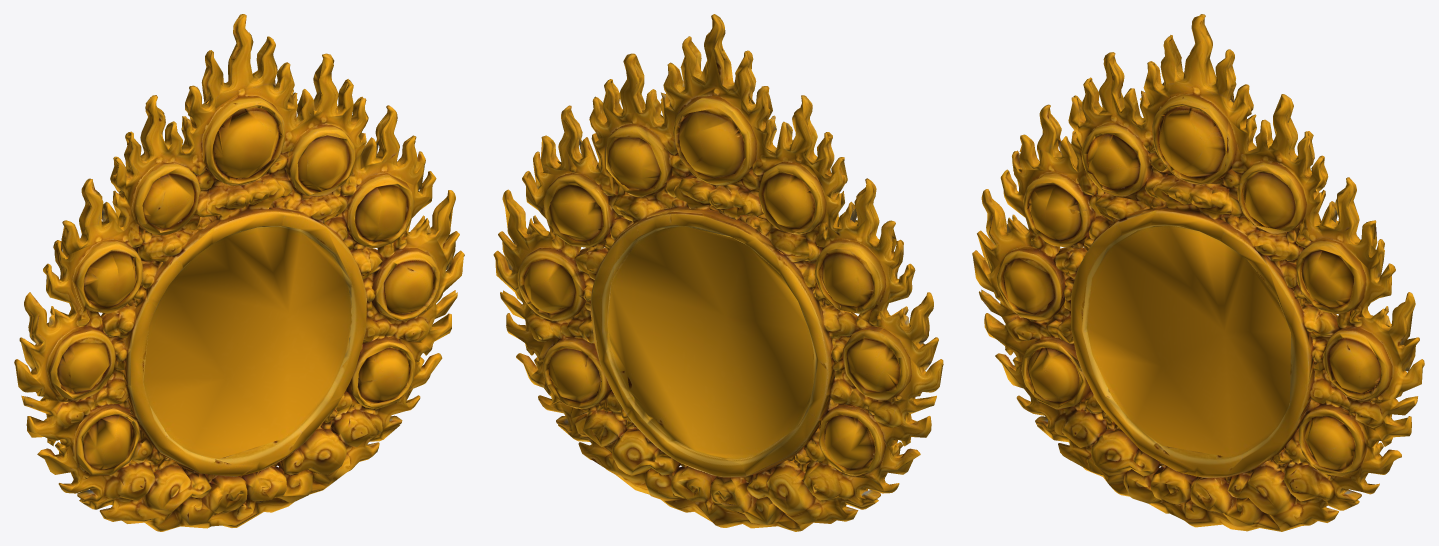
The model's file is ksitigarbha-halo.glb.
The picture shows the model from 3 angles, left to right: view 1: azimuth 30°, elevation 25°; view 2: azimuth 150°, elevation 25°; view 3: azimuth 330°, elevation 25°; orthographic projection.
Parts seen in each view (by area): view 1: mesh-q; view 2: mesh-q; view 3: mesh-q.
Part boxes in pixels (x1=…): mesh-q: x1=14, y1=14, x2=464, y2=531; mesh-q: x1=493, y1=14, x2=943, y2=531; mesh-q: x1=972, y1=14, x2=1424, y2=531.
Size of the model in its own units: 1.75 by 1.9 by 0.2389.
1 material, 1 textured.
